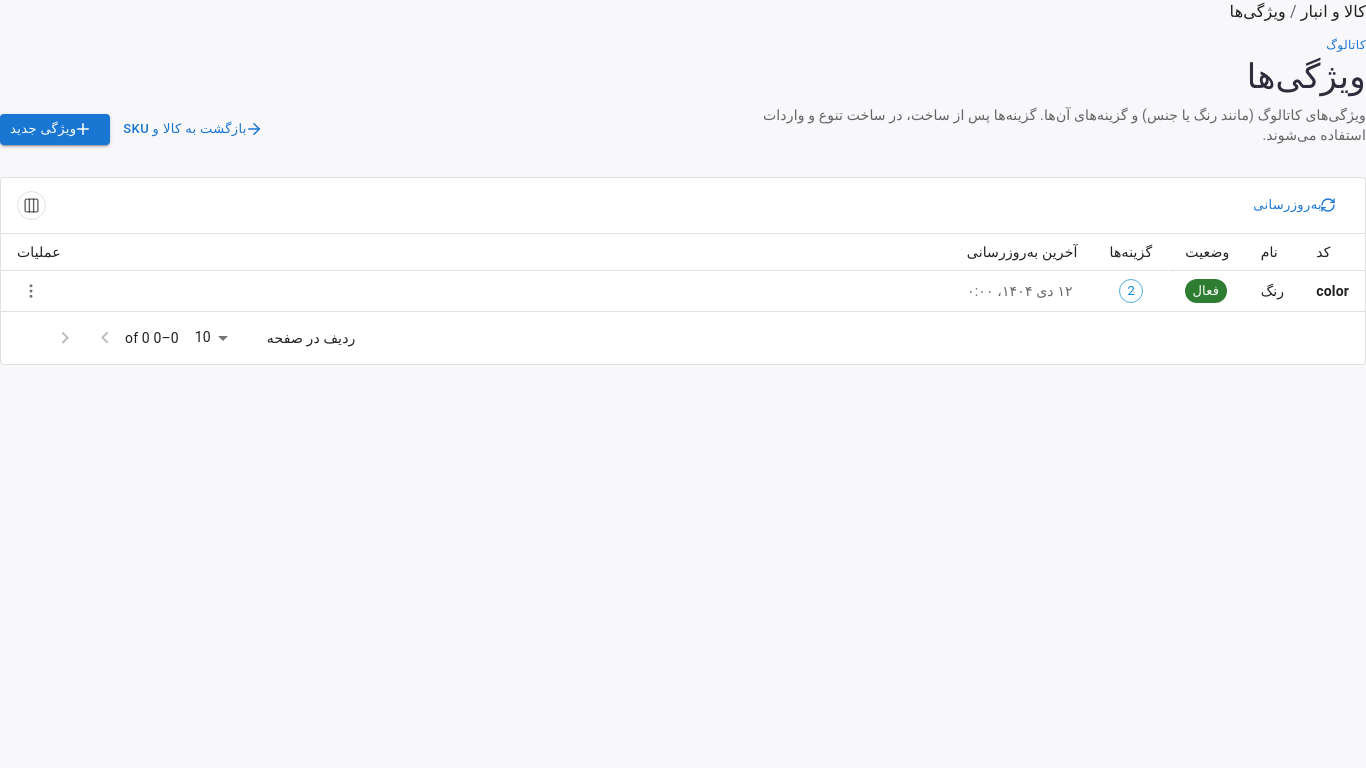
it: AttributesView › opens the edit dialog from the row menu and puts the status change through
Step 1. Click the button named "اقدامات رنگ" → point(31, 291), box [17,277,45,305]
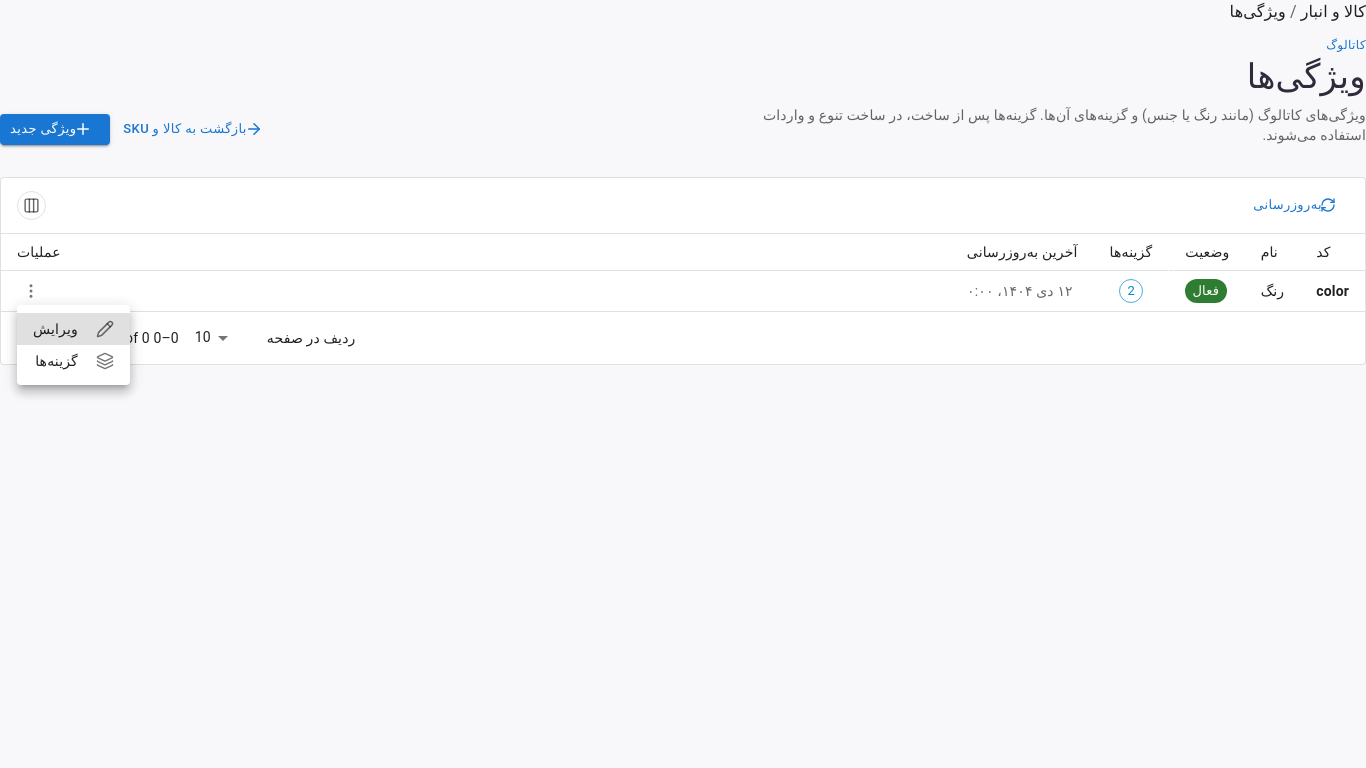
Step 2. Click the menu item "ویرایش" → point(73, 329), box [17,313,130,345]
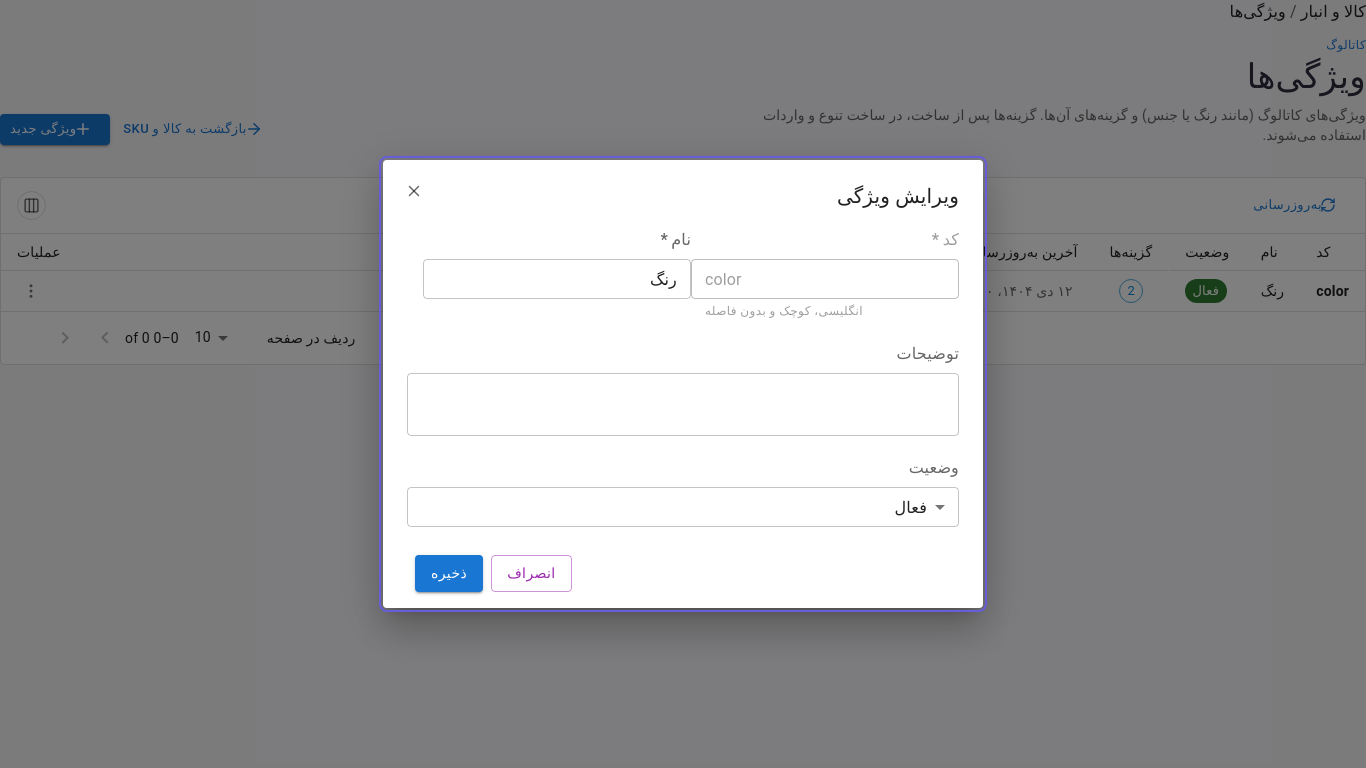
Now the field showing "رنگ" is shown, box [423,259,691,299]
